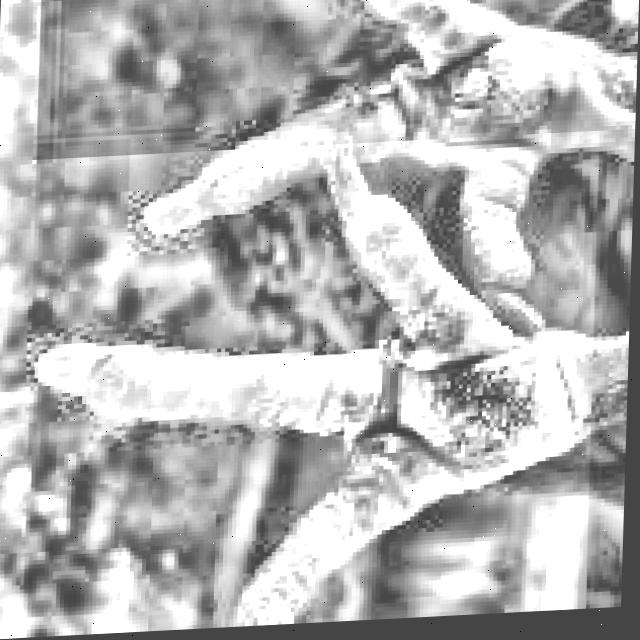Bumble foot: (350, 288, 553, 501), (372, 21, 556, 174)
